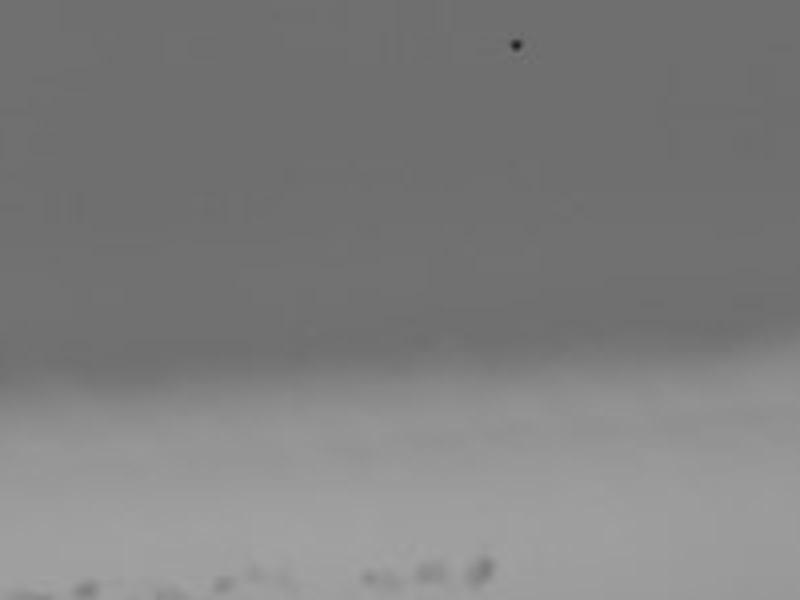defect: (414, 555, 453, 589), (463, 551, 495, 590), (210, 570, 237, 596), (71, 578, 106, 597), (153, 585, 195, 600), (237, 558, 263, 581), (505, 34, 527, 55), (360, 566, 380, 588)
